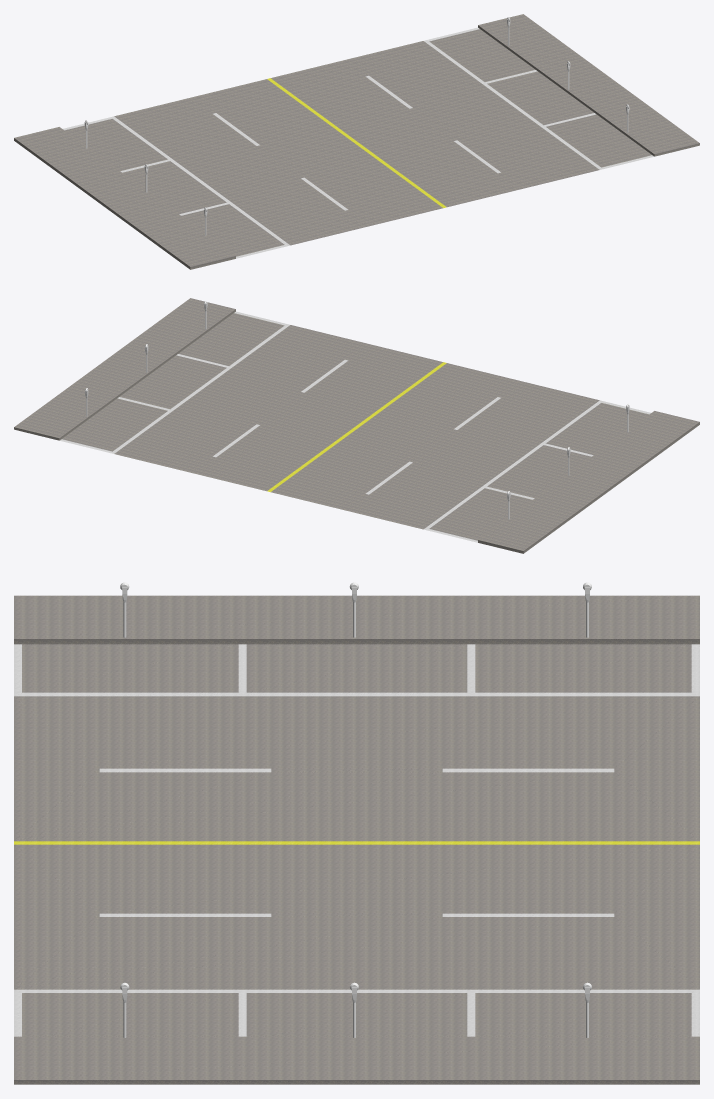
File: 1_road.dae
3 renders of one model, top to bottom at view 1: azimuth 30°, elevation 25°; view 2: azimuth 150°, elevation 25°; view 3: azimuth 270°, elevation 25°, orthographic. The views are drawn at different scales.
Visible parts, largest first — view 1: SketchUp (×7); view 2: SketchUp (×7); view 3: SketchUp (×9).
Boxes of the visible parts, bbox=[...] form: SketchUp (×7): bbox=[14, 14, 699, 269]; SketchUp (×7): bbox=[14, 298, 699, 553]; SketchUp (×9): bbox=[14, 595, 699, 1084].
Bounding box in the file's own units: 1120 × 672 × 65.
4 materials, 3 textured.
